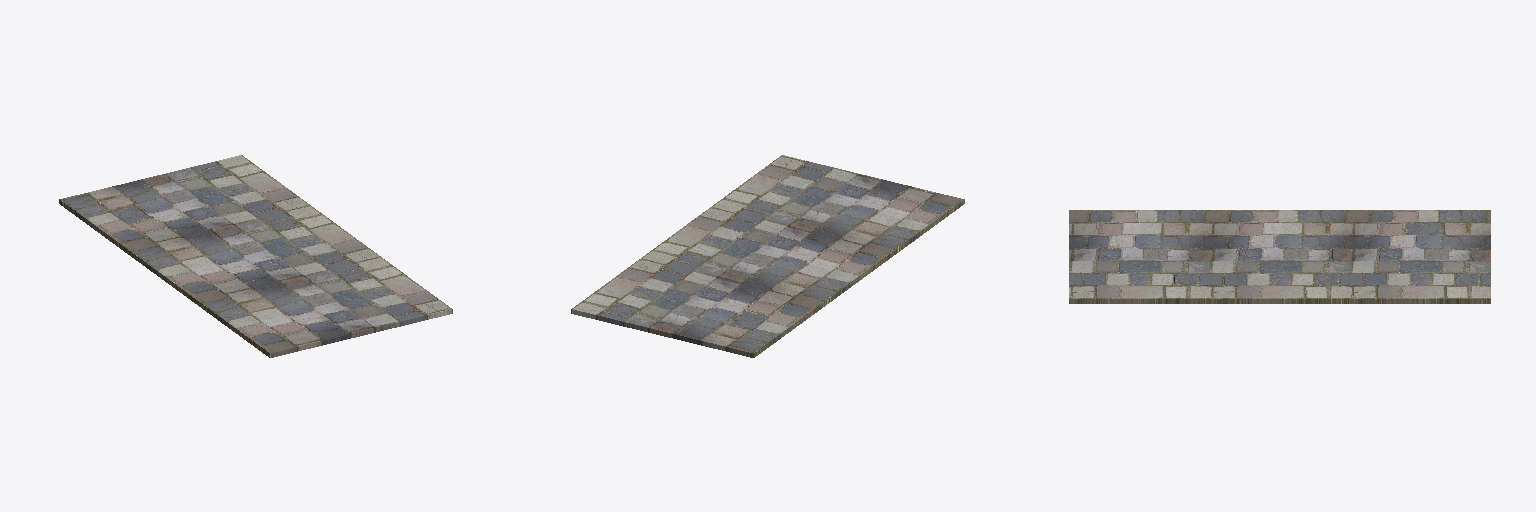
3 views of the same model, side by side, from view 1: azimuth 30°, elevation 25°; view 2: azimuth 150°, elevation 25°; view 3: azimuth 270°, elevation 25° (orthographic).
Parts seen in each view (by area): view 1: Box01; view 2: Box01; view 3: Box01.
Part boxes in pixels (bbox=[...]): Box01: bbox=[59, 155, 452, 357]; Box01: bbox=[571, 155, 964, 357]; Box01: bbox=[1069, 210, 1490, 303].
Size of the model in its own units: 2 by 0.0631 by 4.
1 materials, 1 textured.